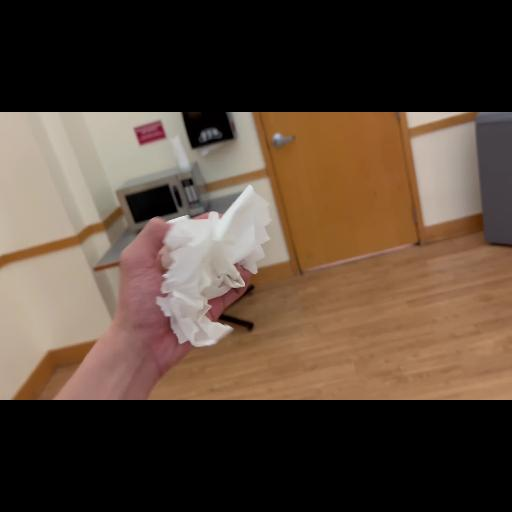napkin: (152, 180, 282, 350)
